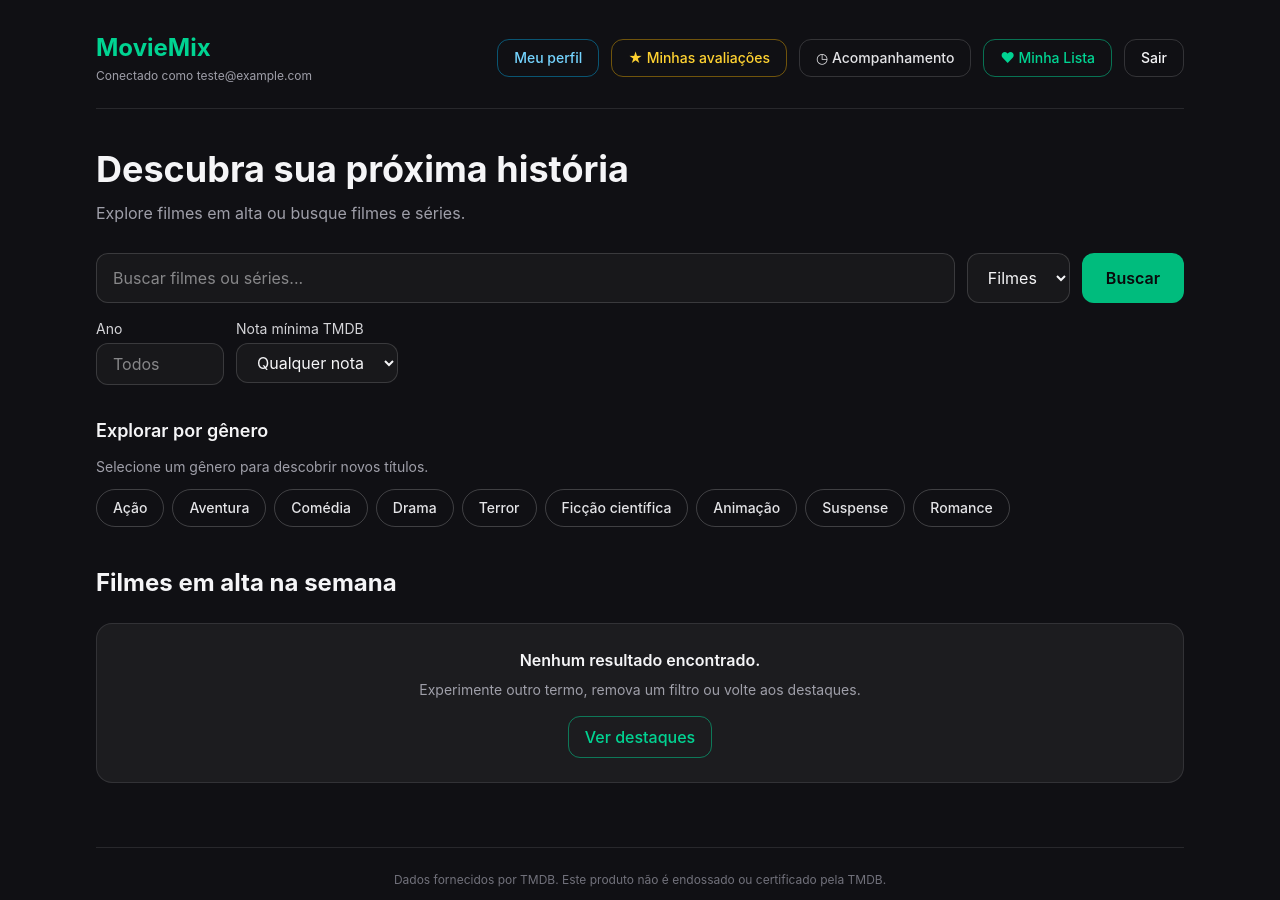
Scenario: clear advanced filters › keeps the text and media type while removing genre, year and rating
expect the text "Nenhum resultado encontrado." is shown: met, box [520, 650, 760, 670]
Step 1. Type "Batman" into the search field named "Buscar título" → (525, 278), box [96, 253, 955, 303]
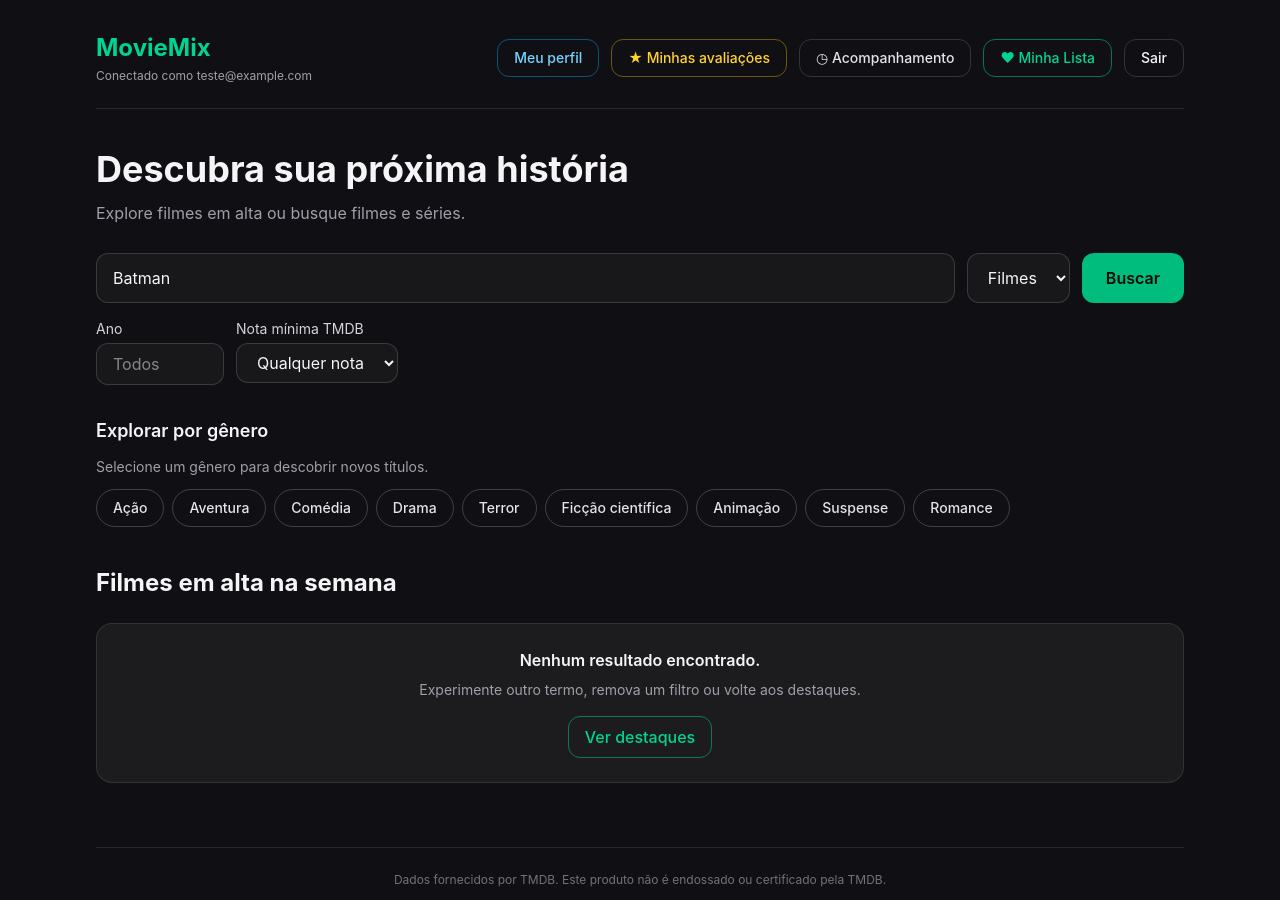
Step 2. Select "Séries" in the dropdown named "Tipo de conteúdo" → (1018, 278), box [967, 253, 1070, 303]
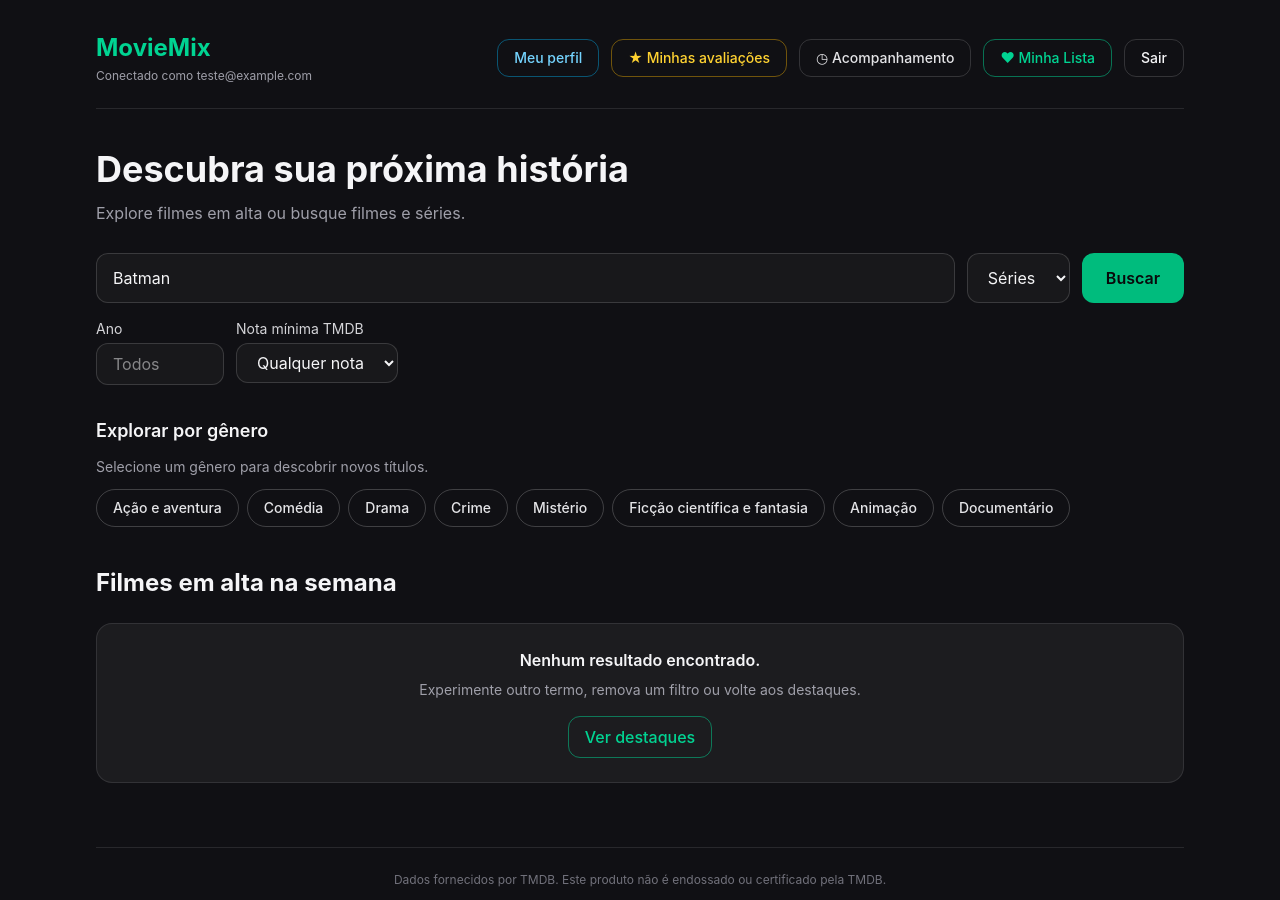
Step 3. Type "2022" into the number field labelled "Ano" → (160, 364), box [96, 343, 224, 385]
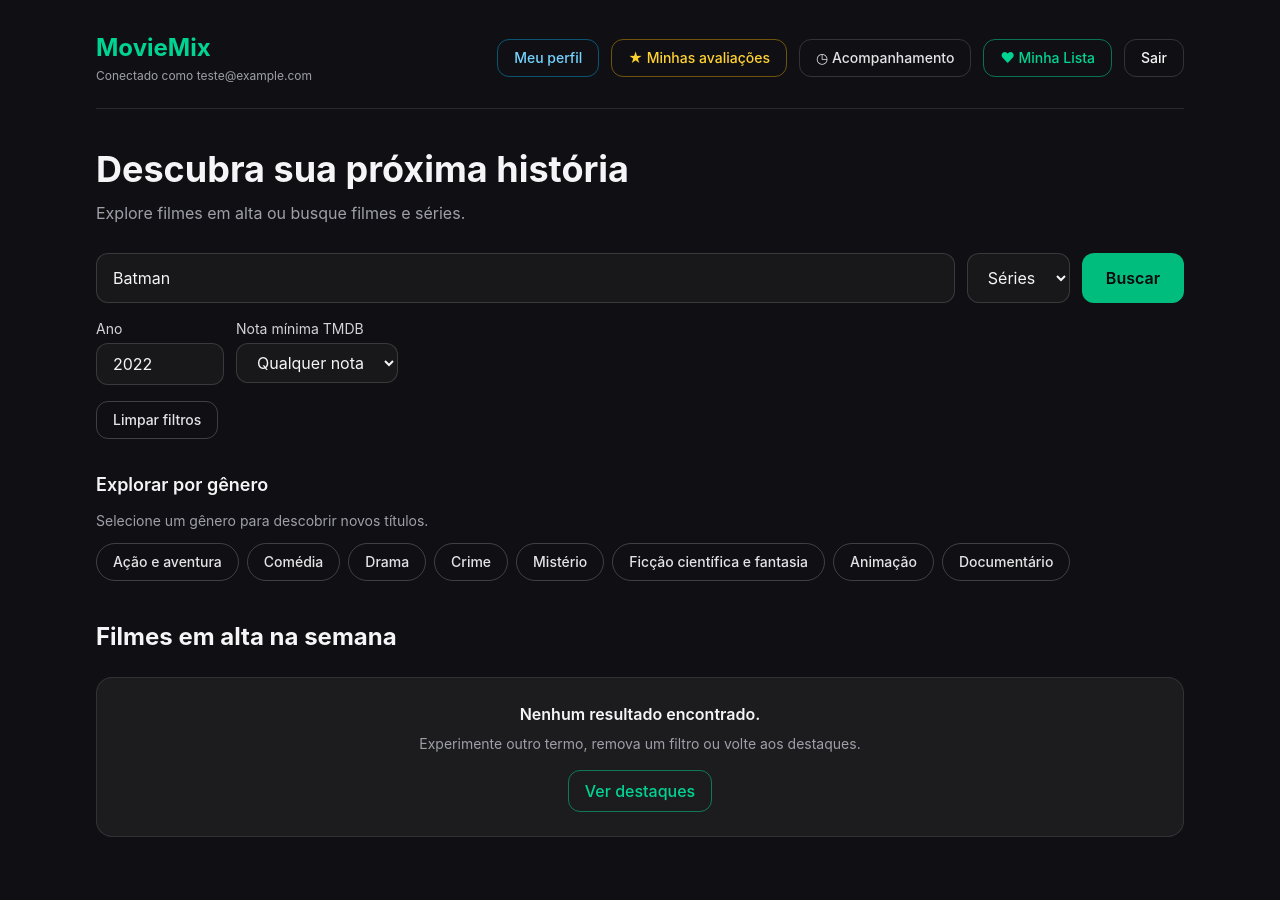
Step 4. Select "7+" in the dropdown labelled "Nota mínima TMDB" → (317, 363), box [236, 343, 398, 383]
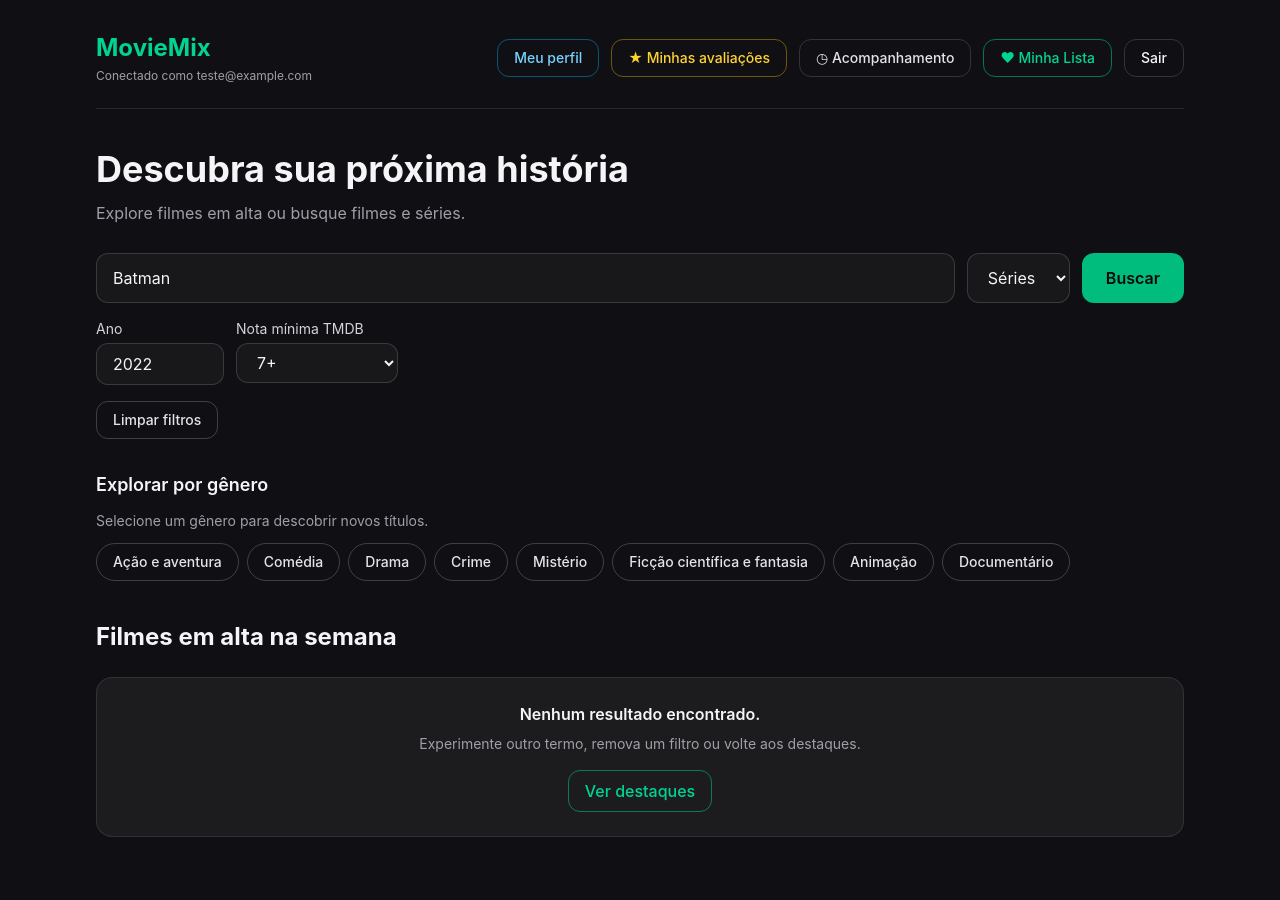
Step 5. Click the button "Crime" → (471, 562), box [434, 543, 508, 581]
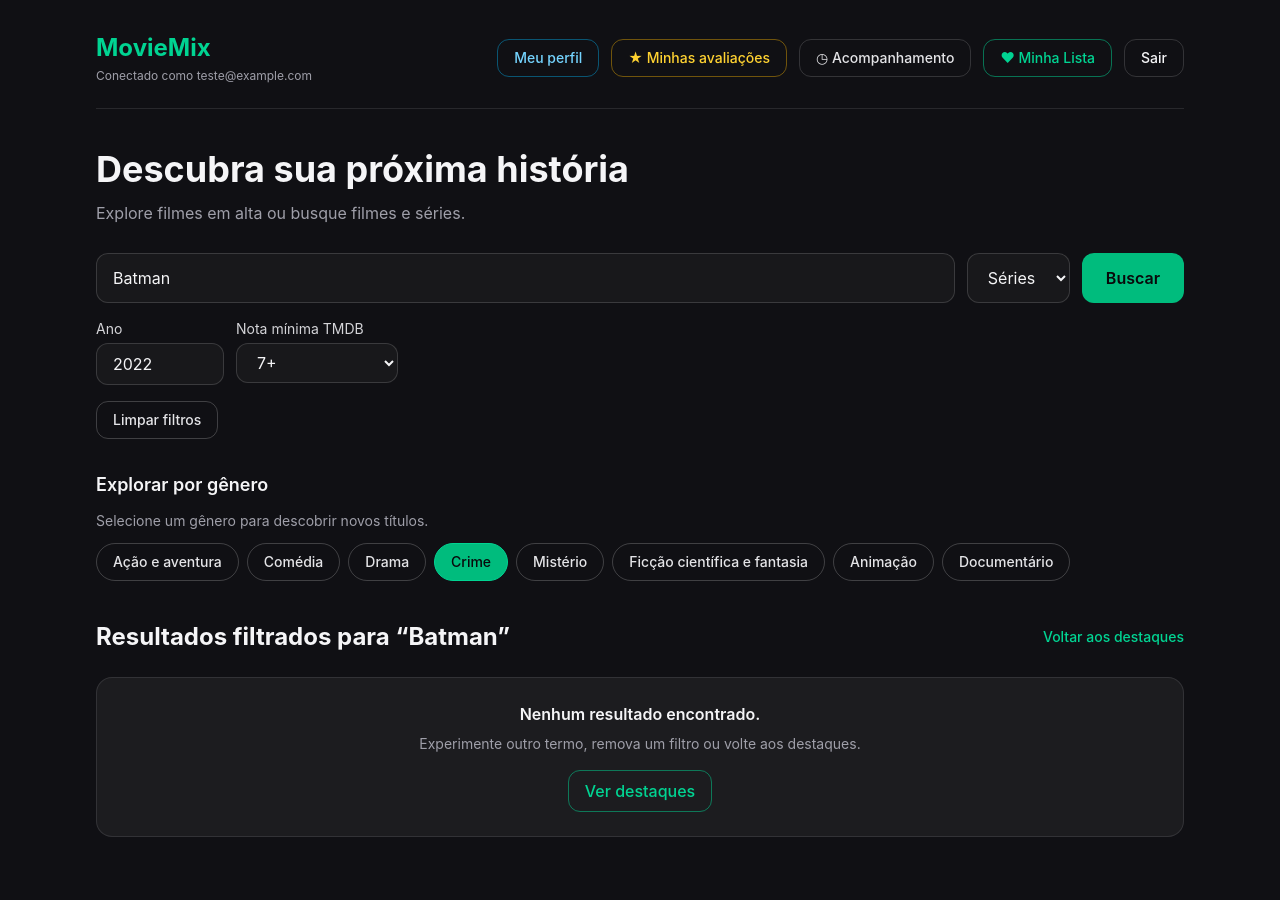
Step 6. Click the button "Limpar filtros" → (157, 420), box [96, 401, 218, 439]
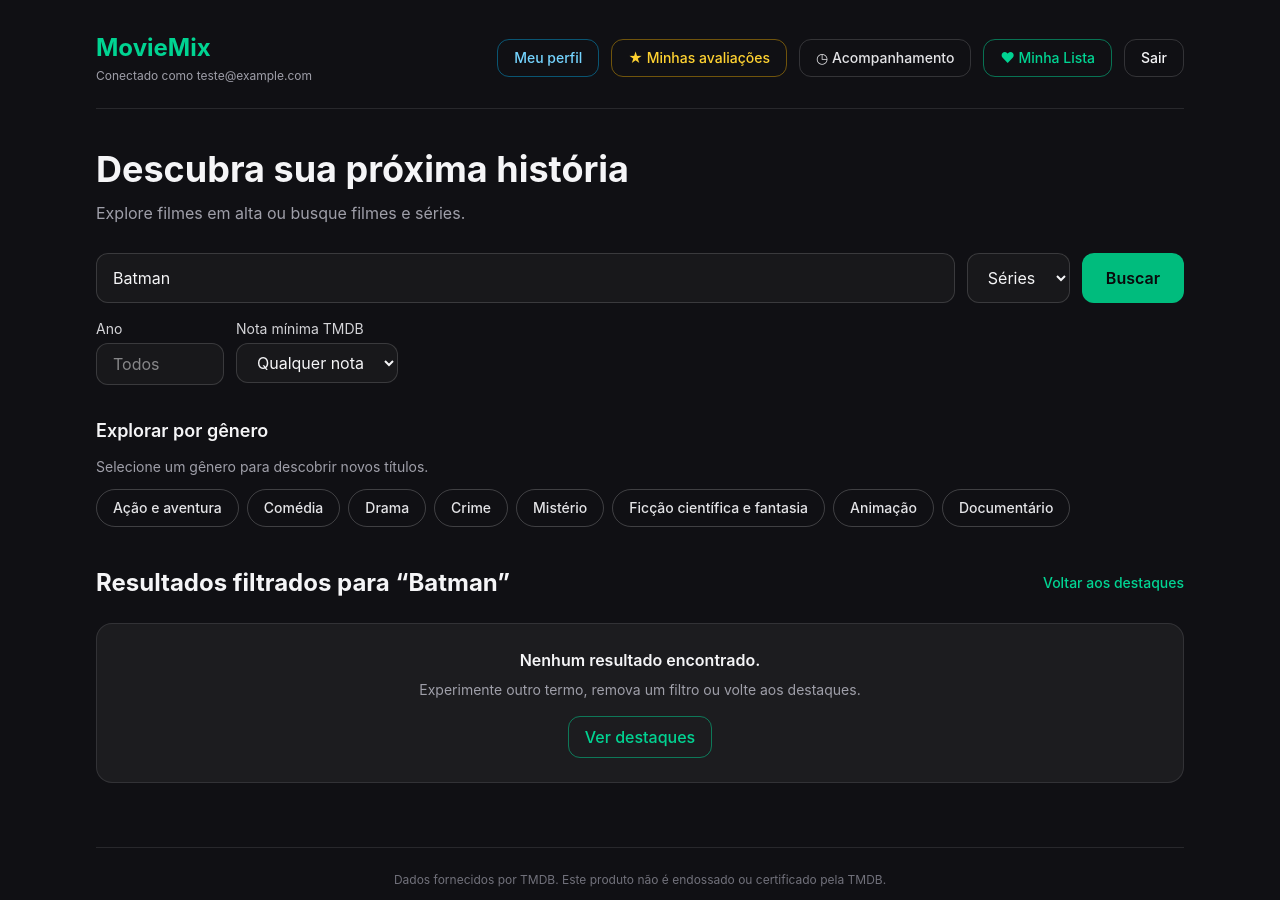
expect the number field labelled "Ano" is empty: met, box [96, 343, 224, 385]
expect the button "Limpar filtros" is gone: met
